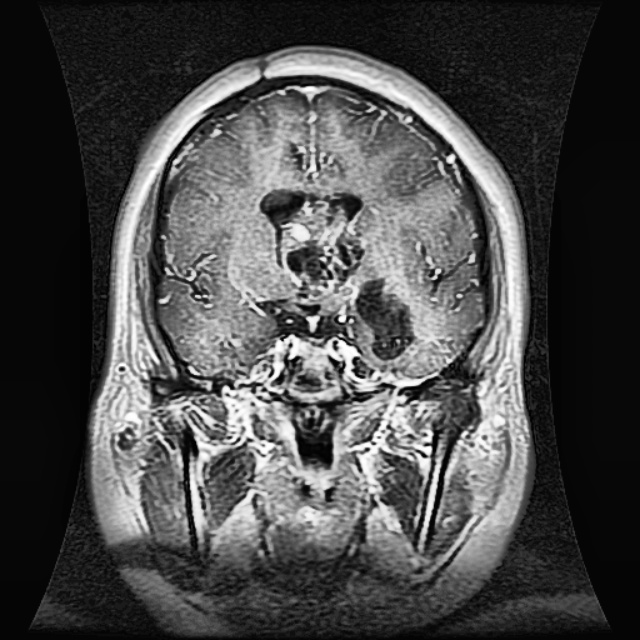Meningioma: (250, 185, 422, 360)
